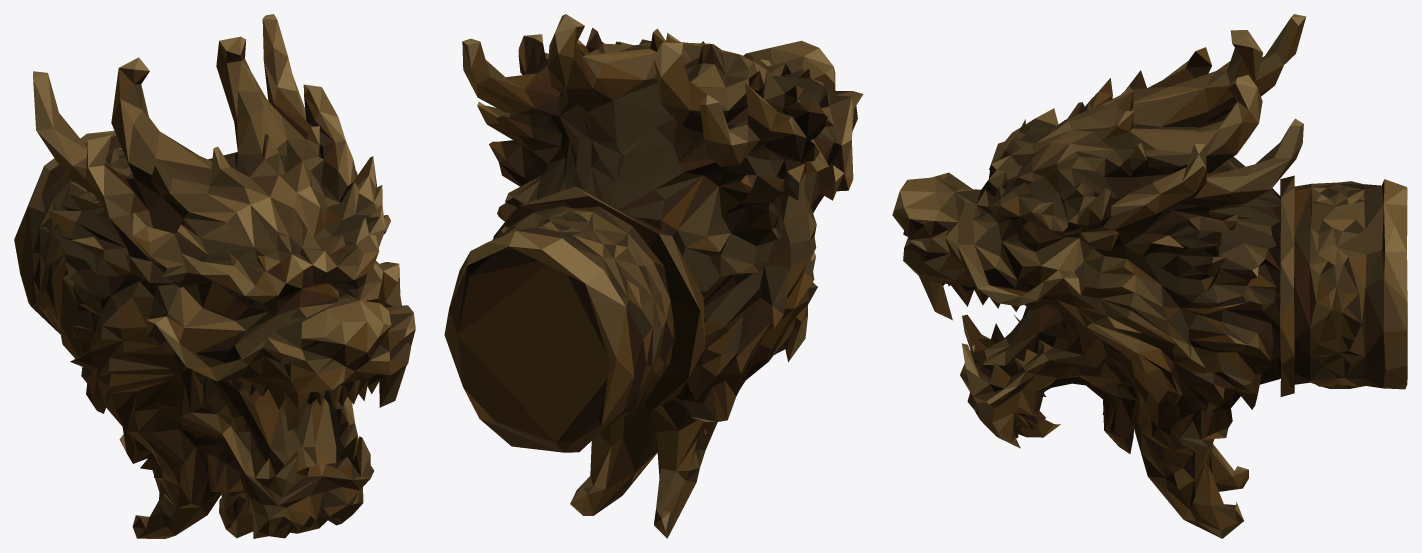
File: guard.glb
3 views of the same model, side by side, from view 1: azimuth 30°, elevation 25°; view 2: azimuth 150°, elevation 25°; view 3: azimuth 270°, elevation 25° (orthographic). The views are drawn at different scales.
Parts seen in each view (by area): view 1: guard; view 2: guard; view 3: guard.
Part boxes in pixels (x1,y1,x2,y2): guard: (14, 14, 415, 538); guard: (444, 14, 863, 538); guard: (892, 14, 1407, 538).
Size of the model in its own units: 0.0633 by 0.0999 by 0.1002.
